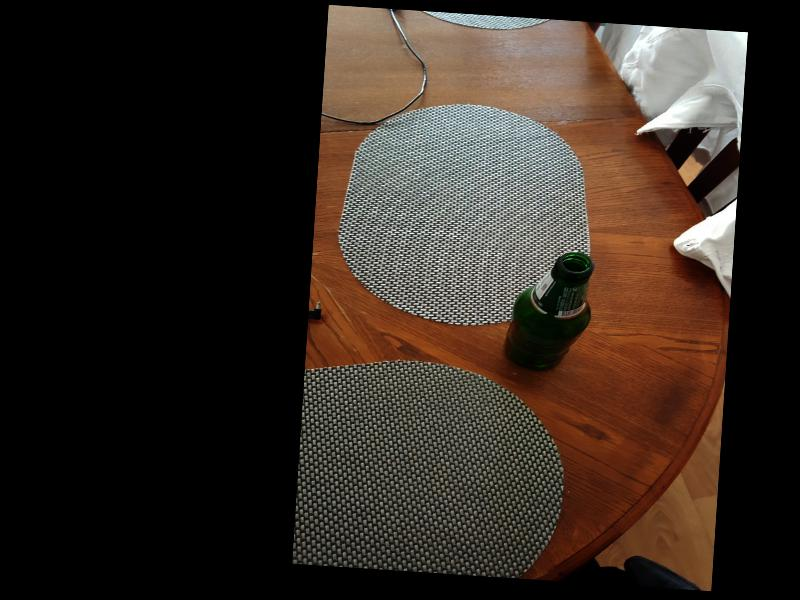Beer: (505, 248, 594, 375)
